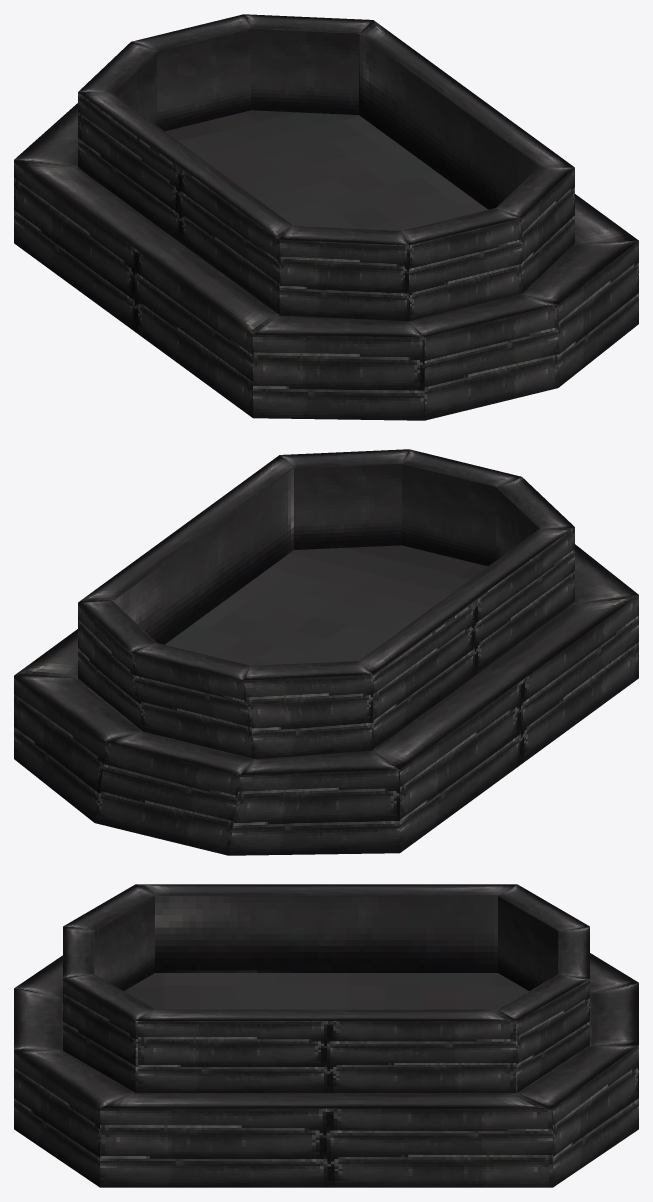
Rendered from planterSeatsSmall.fbx.
The picture shows the model from 3 angles, top to bottom: view 1: azimuth 30°, elevation 25°; view 2: azimuth 150°, elevation 25°; view 3: azimuth 270°, elevation 25°; orthographic projection. The views are drawn at different scales.
Parts seen in each view (by area): view 1: PlanterV2; view 2: PlanterV2; view 3: PlanterV2.
Boxes of the visible parts, x1,y1,x2,y2 form: PlanterV2: (14, 14, 638, 420); PlanterV2: (14, 449, 638, 855); PlanterV2: (14, 884, 638, 1187).
Bounding box in the file's own units: 211 × 80.52 × 313.
